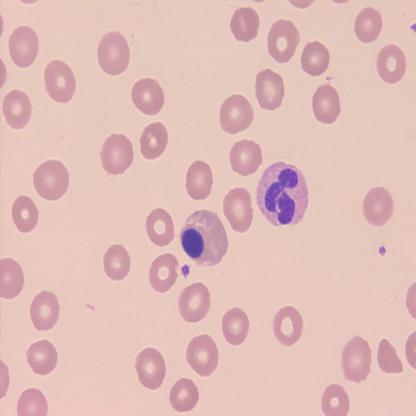NRC: (179, 225, 206, 260)
